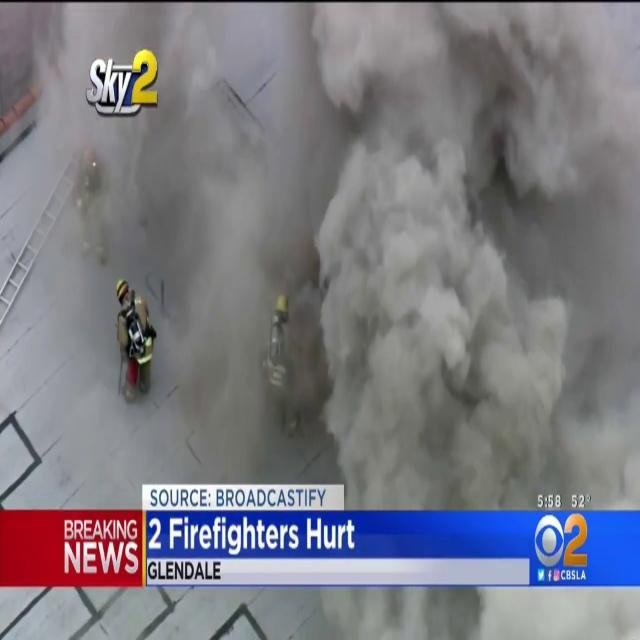Smoke: (5, 3, 638, 496)
